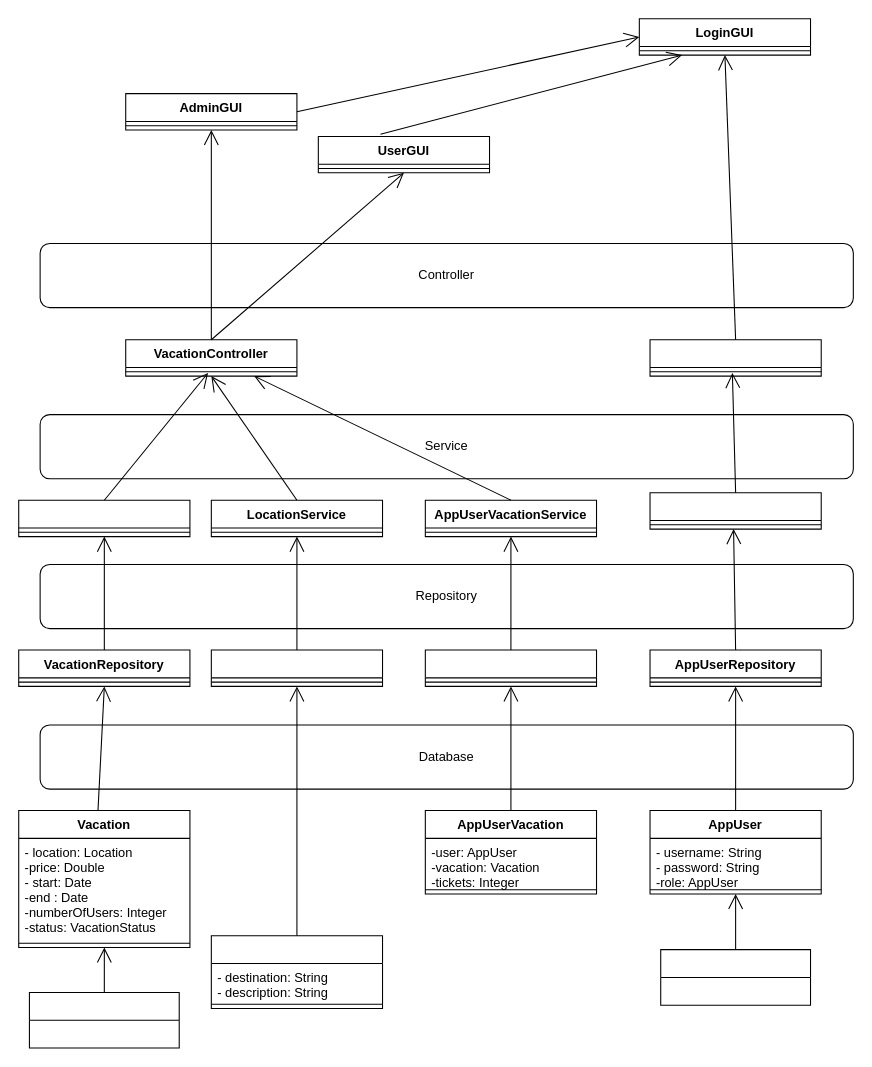
Image size: 872x1067. Some labels were removed from this diagram. The box of each missing label's shape, as (x1, y1, x2, y2) in pixels:
AppUserController: (649, 339, 821, 376)
AppUserRole: (660, 949, 811, 1005)
AppUserService: (649, 492, 821, 529)
AppUserVacationRepository: (424, 649, 597, 686)
Location: (210, 935, 383, 1008)
LocationRepository: (210, 649, 383, 686)
VacationService: (18, 499, 190, 537)
VacationStatus: (28, 991, 179, 1048)
